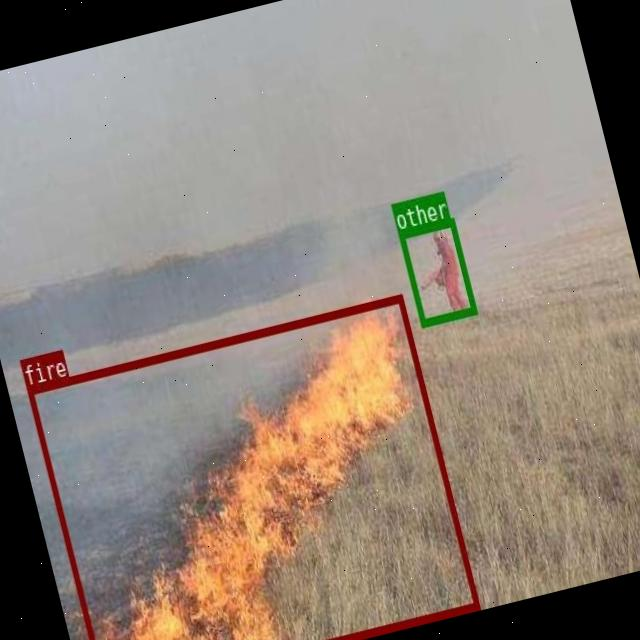fire: (24, 294, 478, 640)
